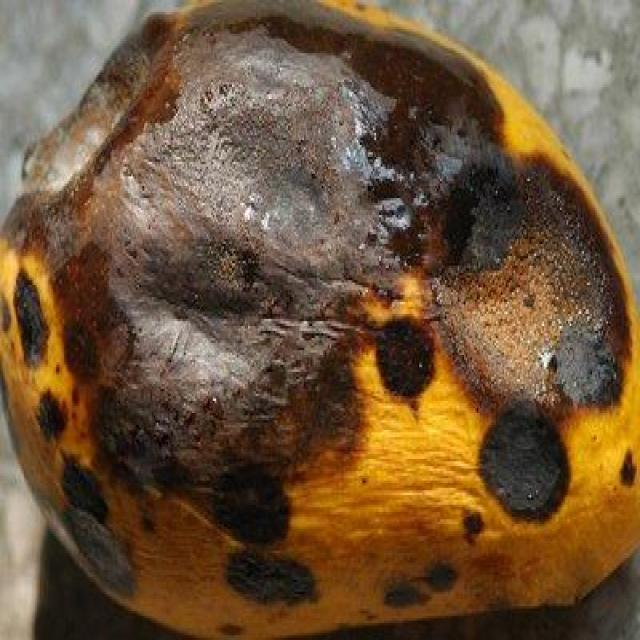Wet Waste: (1, 2, 638, 638)
